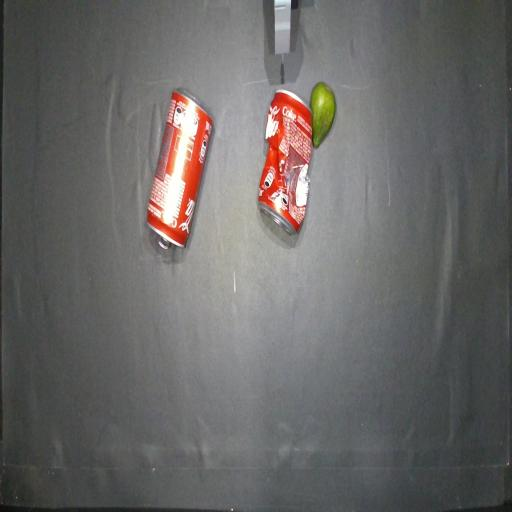higo: (310, 82, 335, 147)
lata: (147, 91, 213, 248)
lata_defectuoso: (258, 90, 312, 234)
